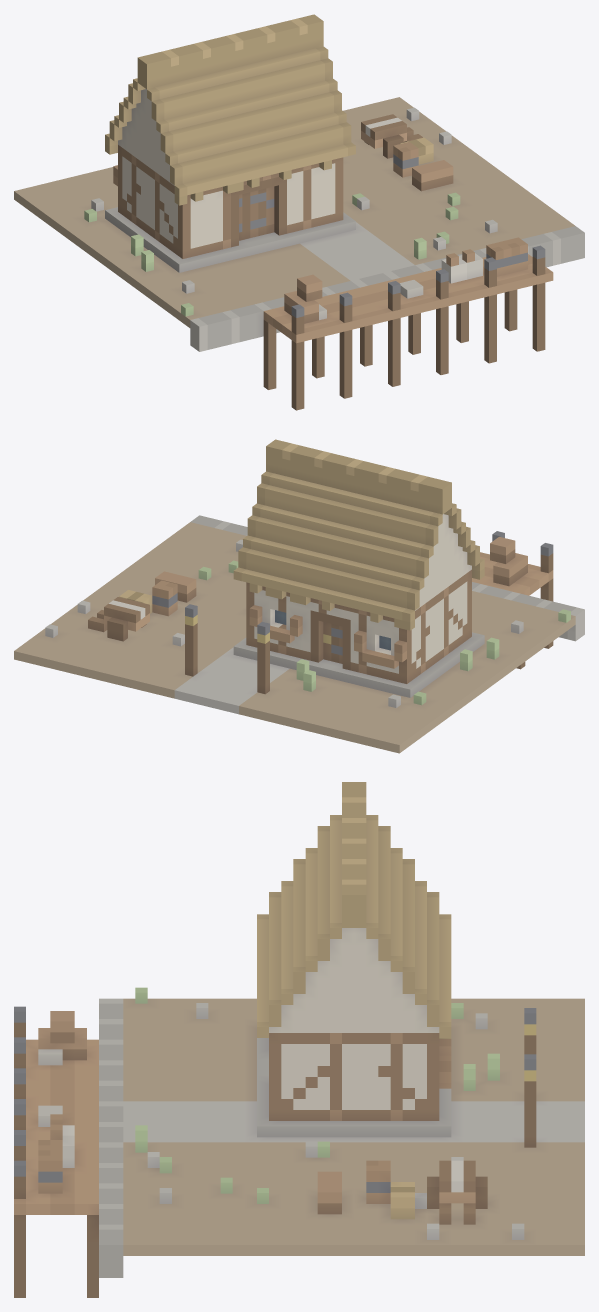
File: trading_post.l1.glb
3 renders of one model, top to bottom at view 1: azimuth 30°, elevation 25°; view 2: azimuth 150°, elevation 25°; view 3: azimuth 270°, elevation 25°, orthographic. The views are drawn at different scales.
Visible parts, largest first — view 1: trading_post; view 2: trading_post; view 3: trading_post.
Part boxes in pixels (x1,y1,x2,y2): trading_post: (14,14,584,410); trading_post: (14,439,584,753); trading_post: (14,782,584,1297).
Size of the model in its own units: 6 by 3.88 by 5.88.
